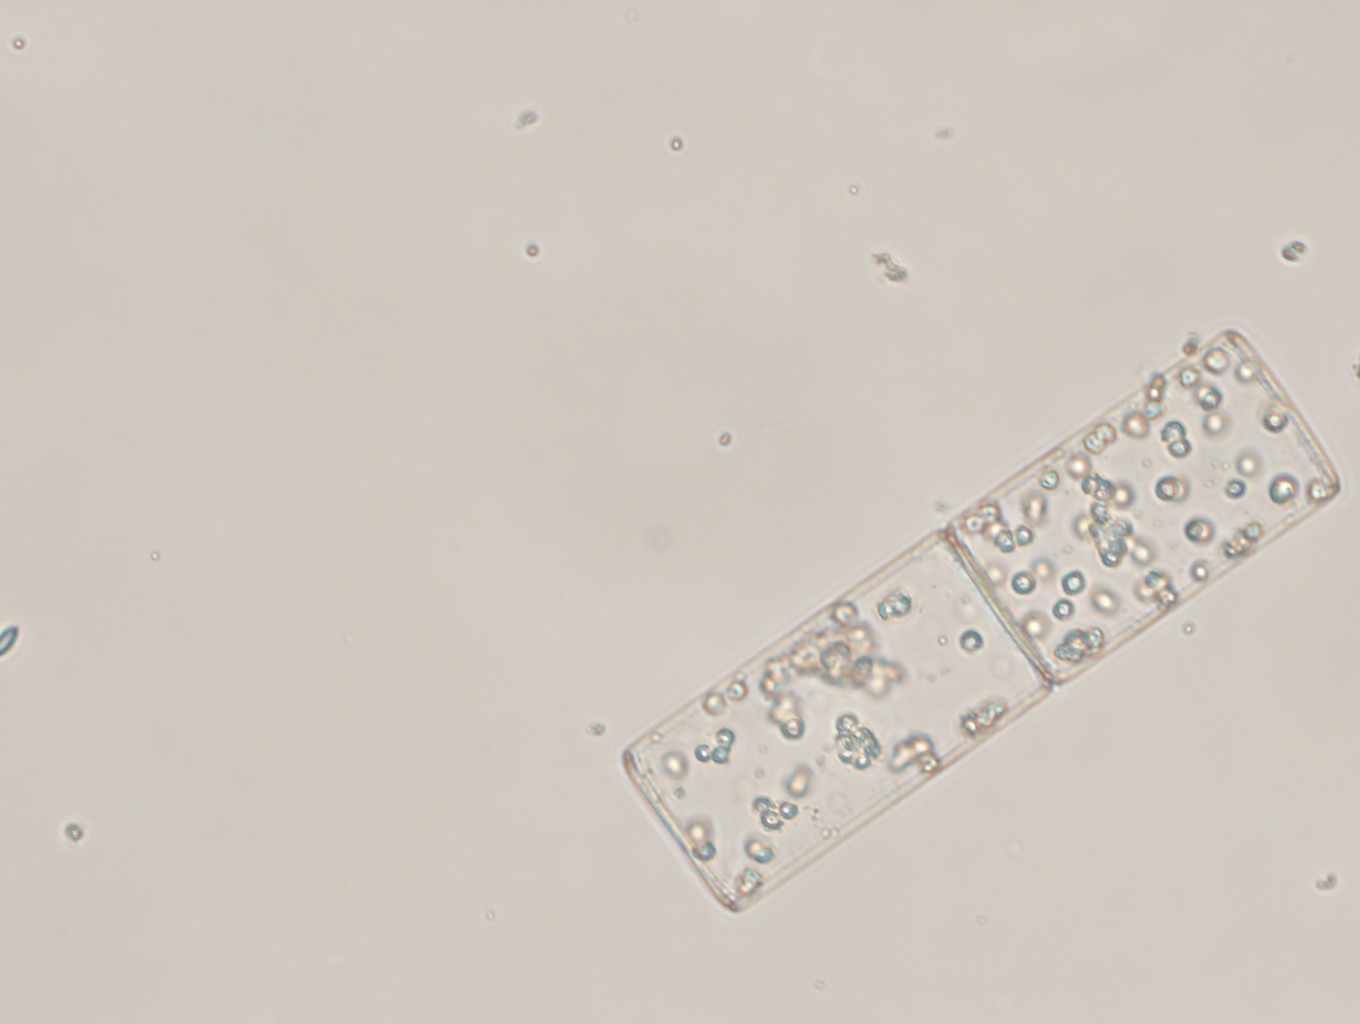guinardia flaccida: (616, 321, 1347, 922)
